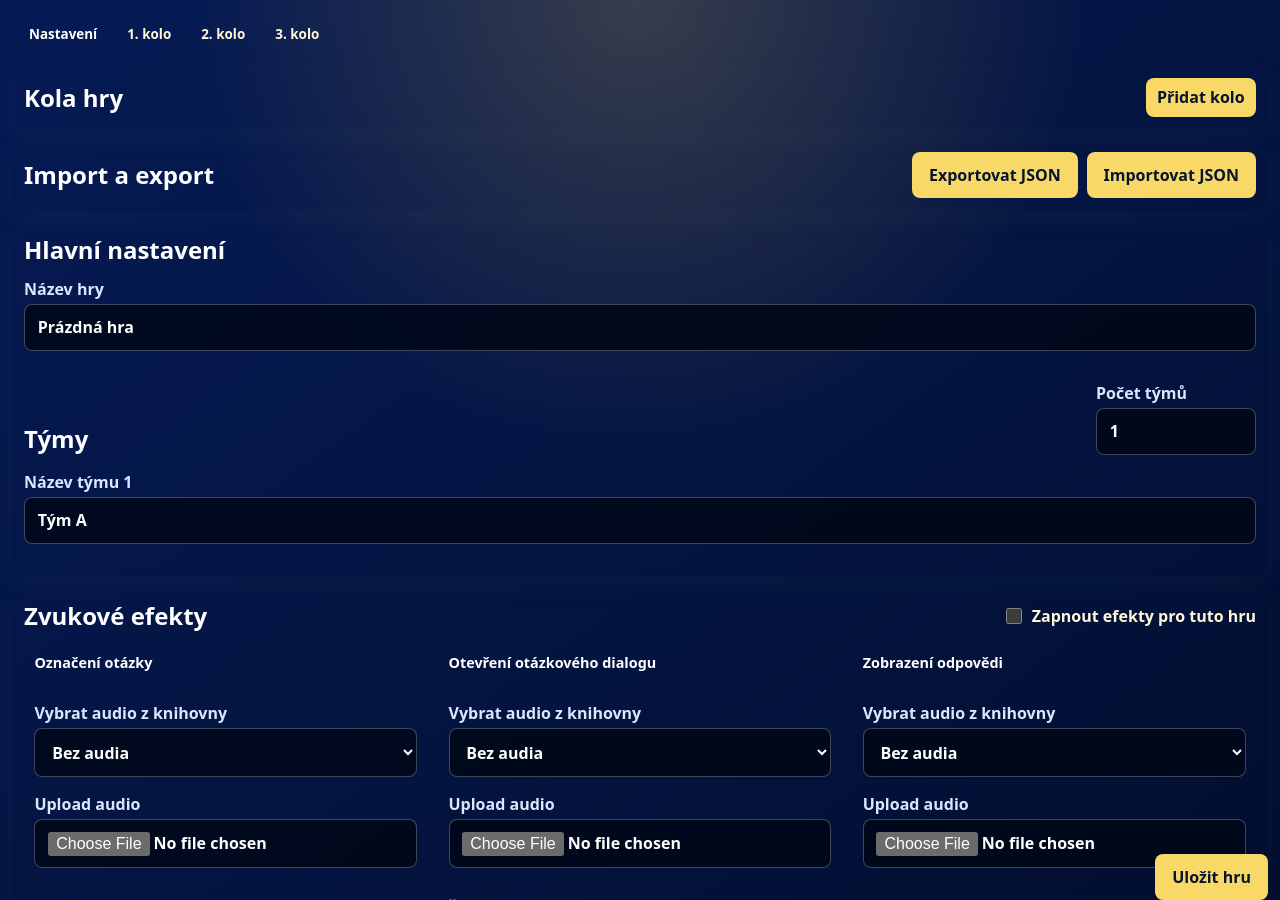
Scenario: GameEditor › po přidání všech tří podporovaných kol tlačítko jasně vypne
Click the button "Přidat kolo" at (1201, 97), box [1146, 78, 1256, 117]
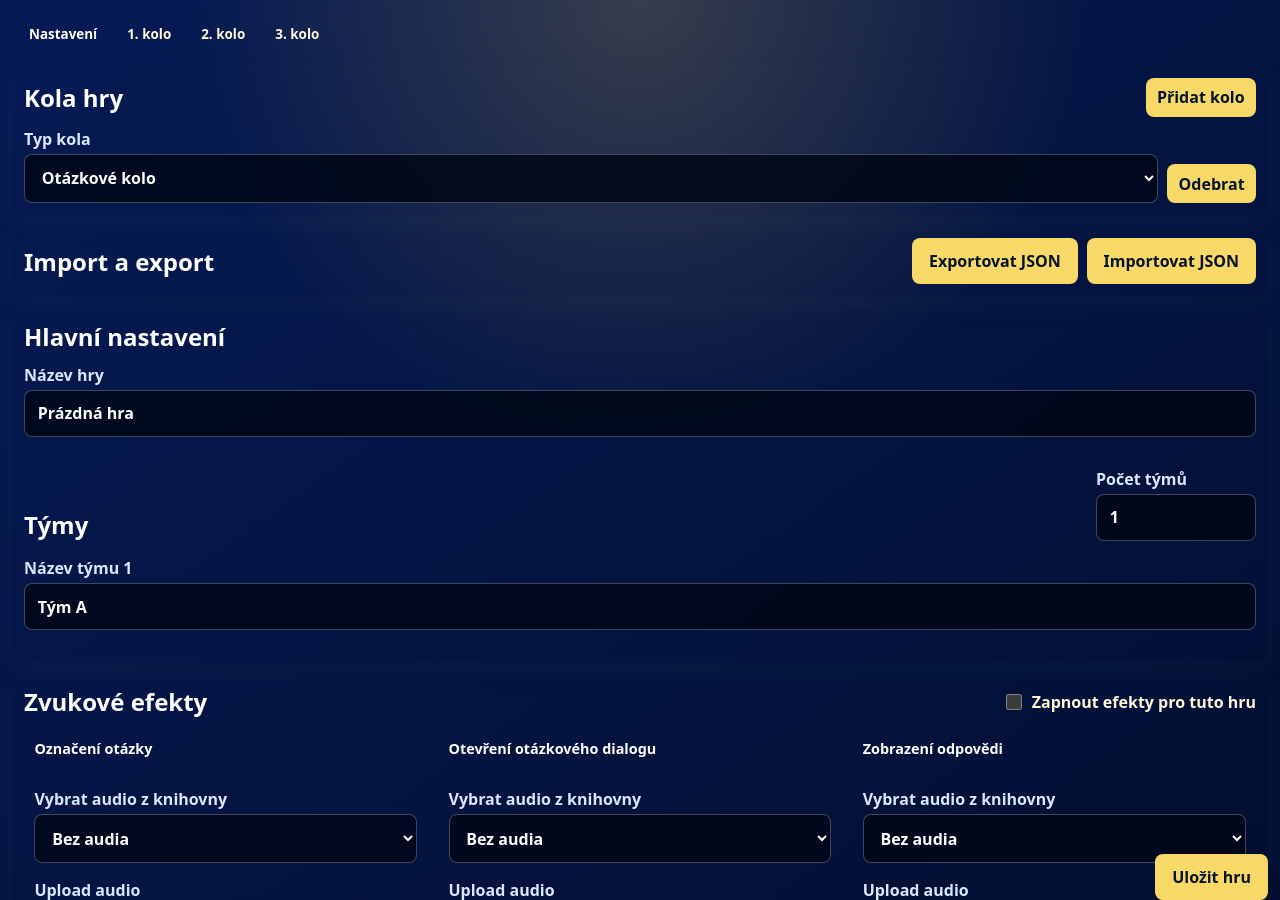
Click the button "Přidat kolo" at (1201, 97), box [1146, 78, 1256, 117]
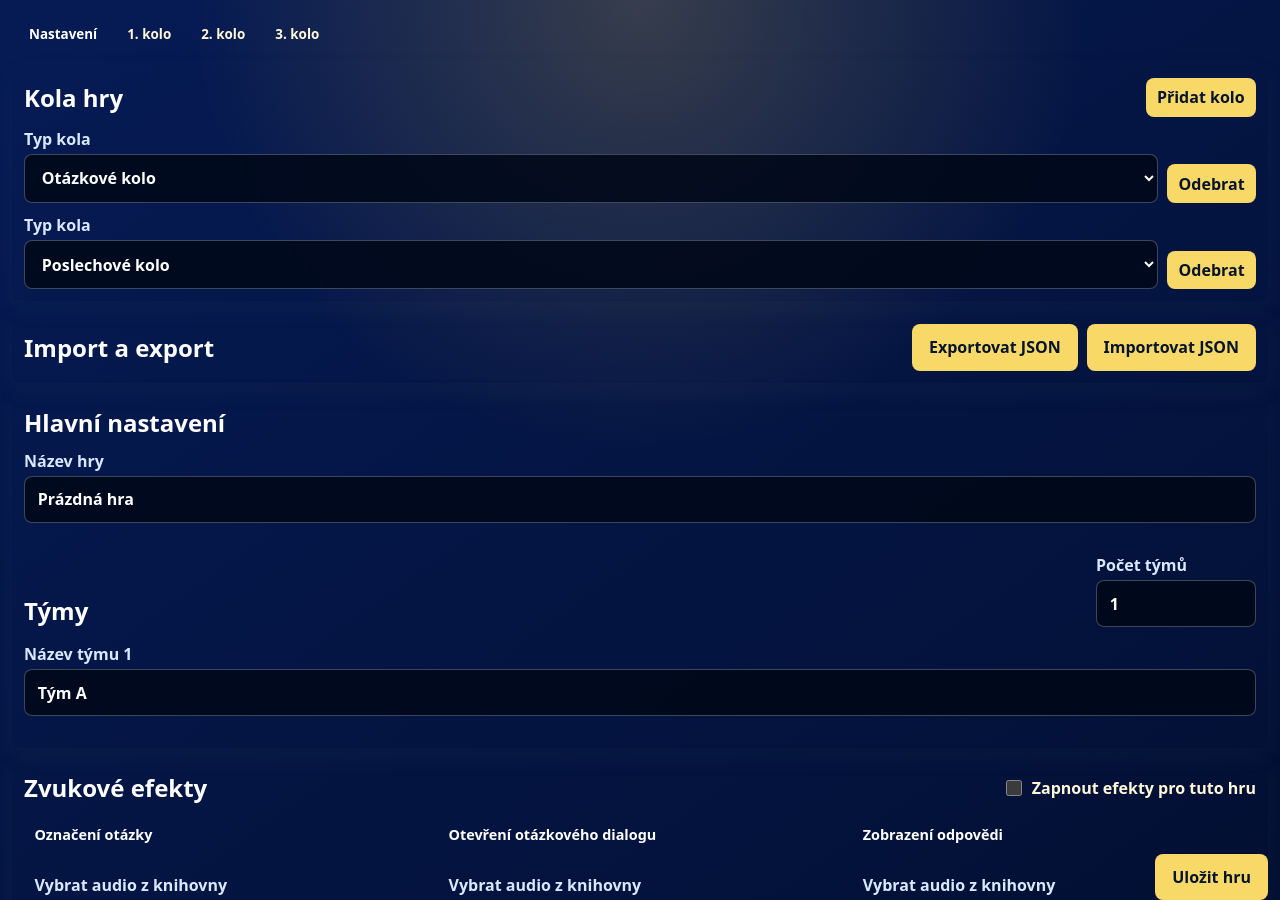
Click the button "Přidat kolo" at (1201, 97), box [1146, 78, 1256, 117]
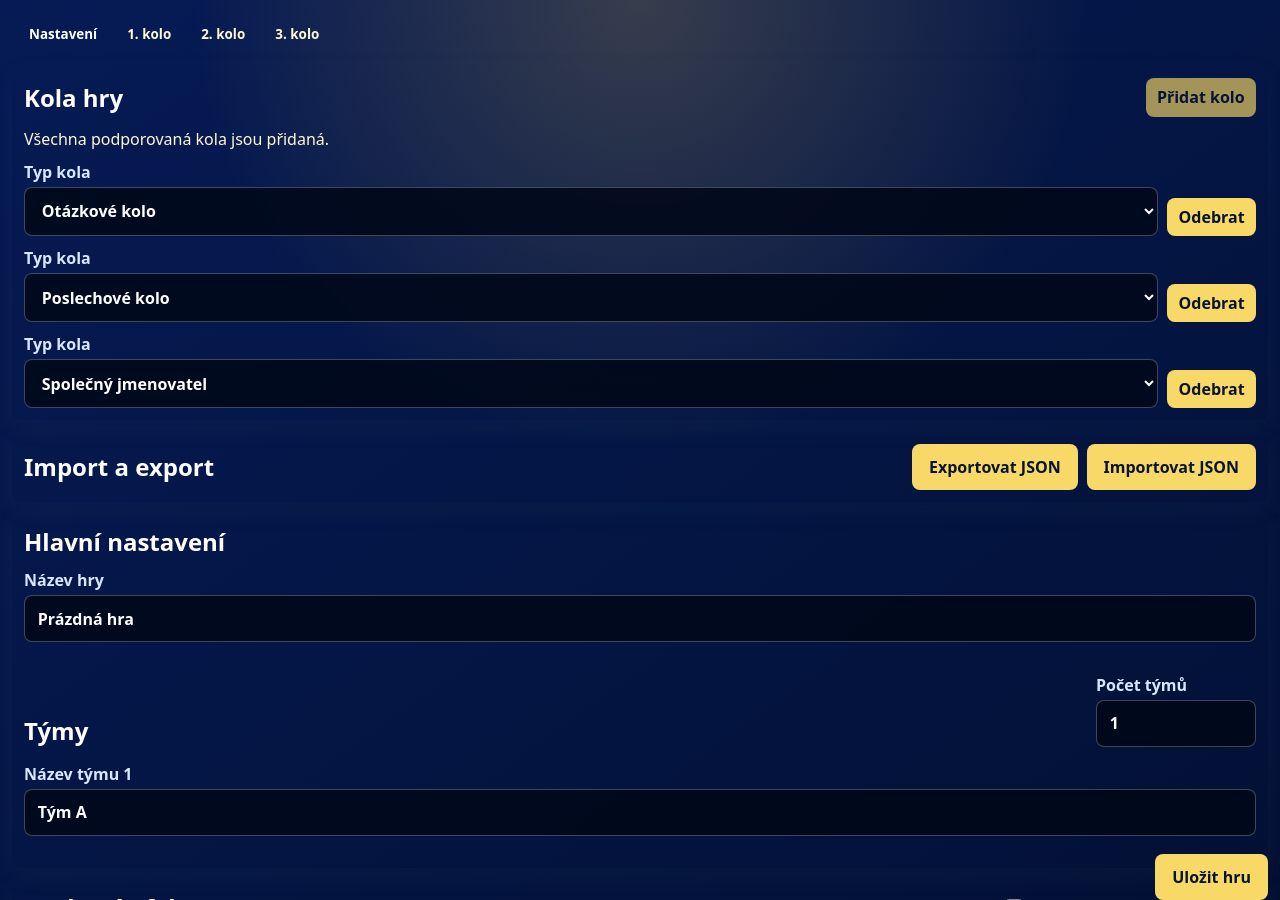
Expected: the button "Přidat kolo" is disabled, [1146, 78, 1256, 117]
Expected: the text "Všechna podporovaná kola jsou přidaná." is shown, [24, 128, 329, 150]
